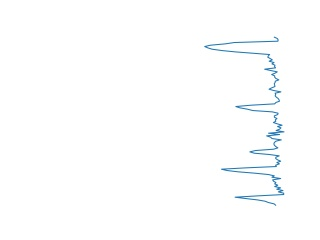distalBar: (201, 33, 284, 85)
interdistributaryEstuary: (232, 85, 285, 142)
underwaterNaturalLevee: (220, 141, 286, 209)
